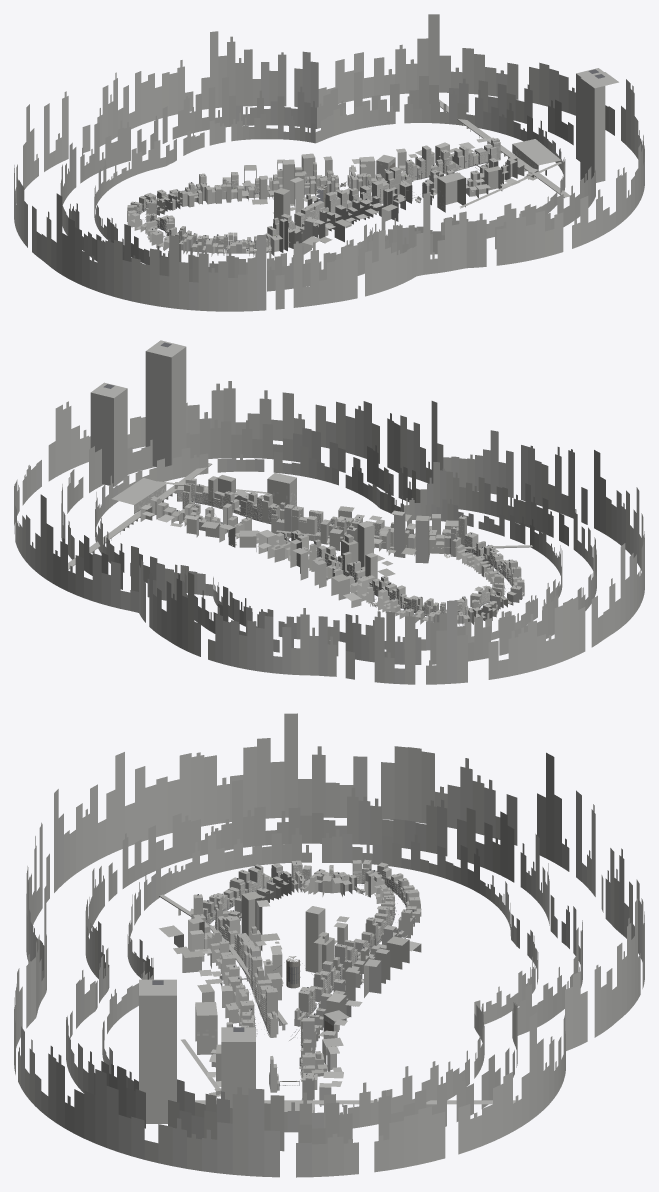
Rendered from ciudad.glb.
3 views of the same model, one above another, from view 1: azimuth 30°, elevation 25°; view 2: azimuth 150°, elevation 25°; view 3: azimuth 270°, elevation 25° (orthographic). The views are drawn at different scales.
Visible parts, largest first — view 1: TELON_2_240m, TELON_1_150m, TELON_0_85m, TROZO_4_-3_opaco, TROZO_-2_-1_opaco, TROZO_3_-1_opaco, TROZO_0_-2_opaco, TROZO_-5_-1_opaco, TROZO_3_1_opaco, TROZO_-3_-2_opaco, TROZO_0_0_opaco, TROZO_-7_2_opaco (+17 smaller); view 2: TELON_2_240m, TELON_1_150m, TELON_0_85m, TROZO_4_-3_opaco, TROZO_5_-1_opaco, TROZO_3_-1_opaco, TROZO_-5_-1_opaco, TROZO_-2_-1_opaco, TROZO_3_1_opaco, TROZO_-5_1_opaco, TROZO_-3_-1_opaco, TROZO_-6_-1_opaco (+15 smaller); view 3: TELON_2_240m, TELON_1_150m, TELON_0_85m, TROZO_4_-3_opaco, TROZO_5_-1_opaco, TROZO_0_-2_opaco, TROZO_-5_0_opaco, TROZO_-5_-1_opaco, TROZO_-5_1_opaco, TROZO_-9_-1_opaco, TROZO_-2_-1_opaco, TROZO_-6_-1_opaco (+14 smaller).
Boxes of the visible parts, x1,y1,x2,y2 form: TELON_2_240m: (14,14,644,311); TELON_1_150m: (60,71,595,291); TELON_0_85m: (94,90,565,277); TROZO_4_-3_opaco: (580,72,618,182); TROZO_-2_-1_opaco: (372,166,411,206); TROZO_3_-1_opaco: (512,139,561,175); TROZO_0_-2_opaco: (437,172,477,212); TROZO_-5_-1_opaco: (290,177,328,224); TROZO_3_1_opaco: (439,99,569,197); TROZO_-3_-2_opaco: (360,196,398,221); TROZO_0_0_opaco: (413,145,443,180); TROZO_-7_2_opaco: (187,175,226,204); TELON_2_240m: (14,381,644,684); TELON_1_150m: (61,419,596,664); TELON_0_85m: (95,446,562,650); TROZO_4_-3_opaco: (145,340,186,466); TROZO_5_-1_opaco: (90,382,127,486); TROZO_3_-1_opaco: (111,478,183,513); TROZO_-5_-1_opaco: (374,510,409,557); TROZO_-2_-1_opaco: (284,504,323,541); TROZO_3_1_opaco: (68,463,212,569); TROZO_-5_1_opaco: (331,534,366,582); TROZO_-3_-1_opaco: (276,517,393,550); TROZO_-6_-1_opaco: (401,515,429,563); TELON_2_240m: (14,713,644,1177); TELON_1_150m: (66,780,582,1151); TELON_0_85m: (102,826,538,1132); TROZO_4_-3_opaco: (139,979,176,1123); TROZO_5_-1_opaco: (221,1027,255,1108); TROZO_0_-2_opaco: (195,1002,217,1054); TROZO_-5_0_opaco: (305,906,325,972); TROZO_-5_-1_opaco: (237,900,282,977); TROZO_-5_1_opaco: (314,932,369,973); TROZO_-9_-1_opaco: (238,867,288,902); TROZO_-2_-1_opaco: (238,985,282,1027); TROZO_-6_-1_opaco: (241,891,279,950).
Bounding box in the file's own units: 1235 × 242 × 914.
Materials: 39 (6 with a texture image).
